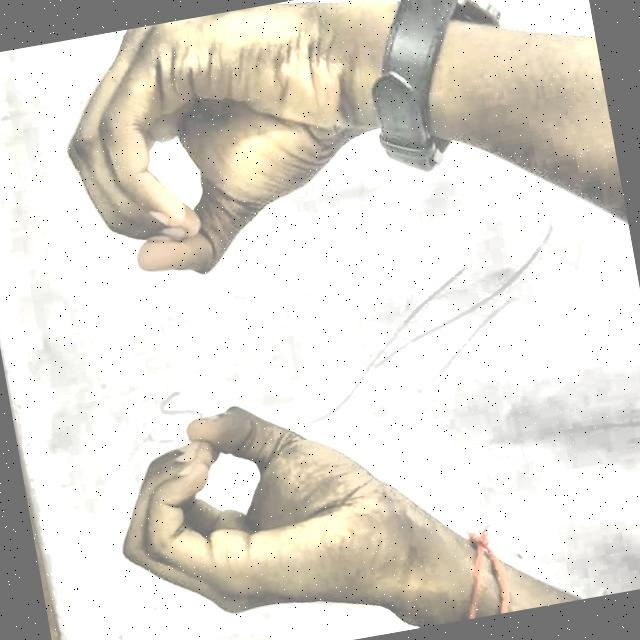Bisharga: (0, 0, 478, 640)
